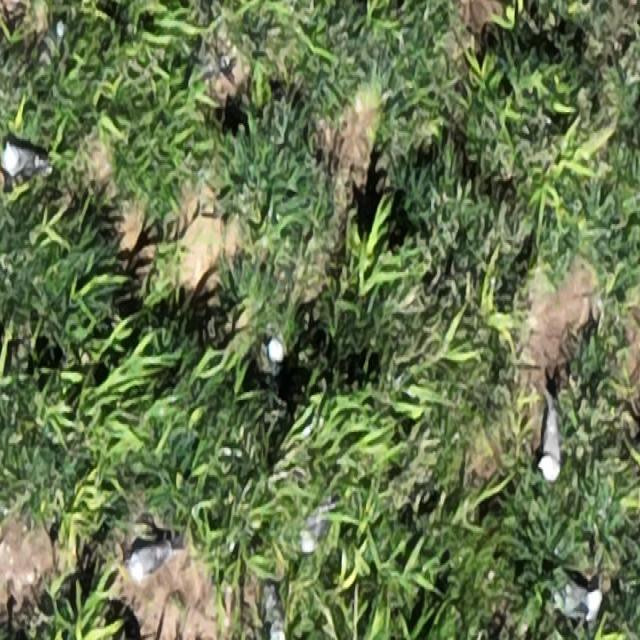umineko: (302, 496, 337, 558), (129, 538, 176, 583), (540, 403, 564, 482), (559, 574, 602, 616), (269, 321, 293, 366), (2, 148, 41, 175)
